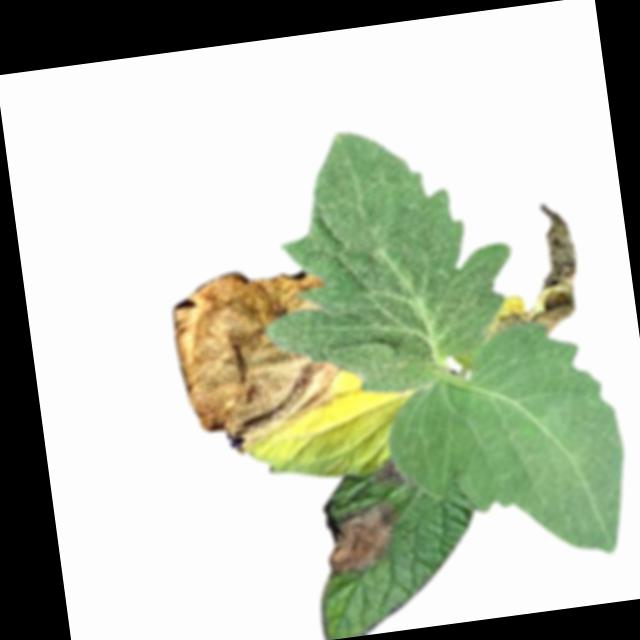Late_blight: (166, 258, 351, 462), (474, 198, 588, 343), (319, 496, 405, 578), (370, 453, 410, 493)
healthy: (240, 111, 528, 410), (376, 313, 634, 580)
